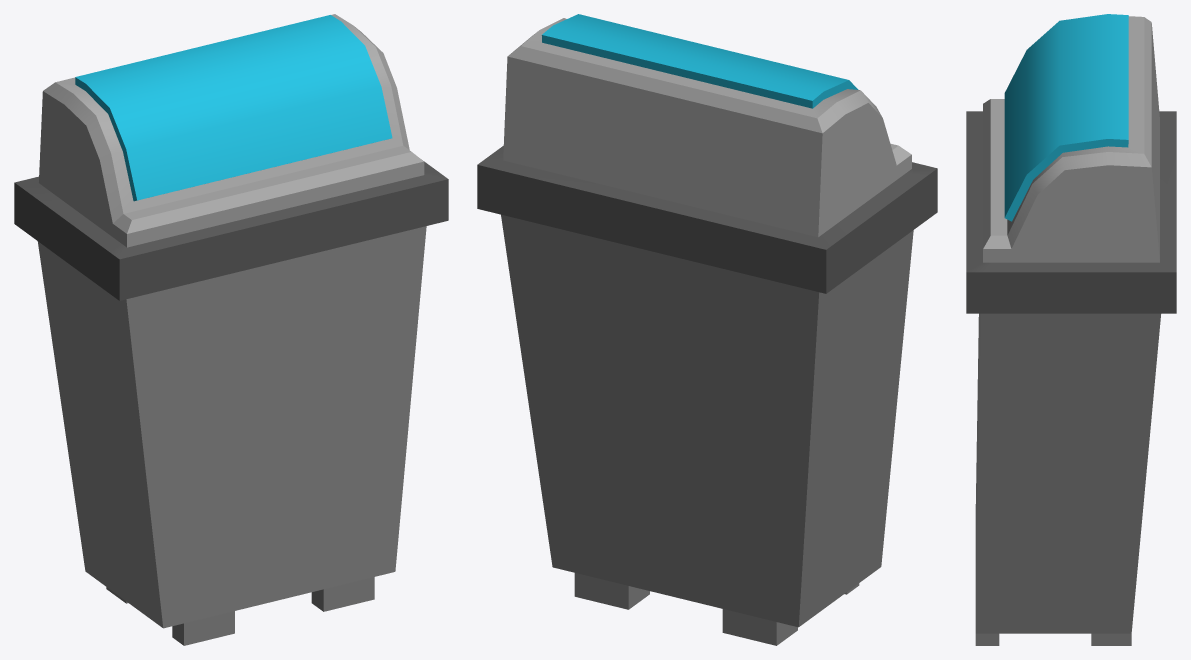
File: poubelle rdc.fbx
3 views of the same model, side by side, from view 1: azimuth 30°, elevation 25°; view 2: azimuth 150°, elevation 25°; view 3: azimuth 270°, elevation 25° (orthographic). The views are drawn at different scales.
Parts seen in each view (by area): view 1: poubelle; view 2: poubelle; view 3: poubelle.
Part boxes in pixels (x1,y1,x2,y2): poubelle: [14, 14, 448, 645]; poubelle: [477, 14, 937, 645]; poubelle: [966, 14, 1176, 645].
Size of the model in its own units: 0.6395 by 0.9695 by 0.3537.
